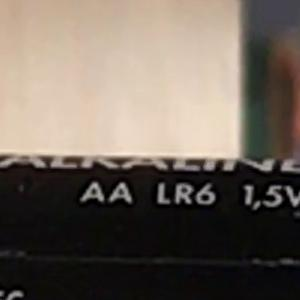LR6: (148, 175, 225, 213)
